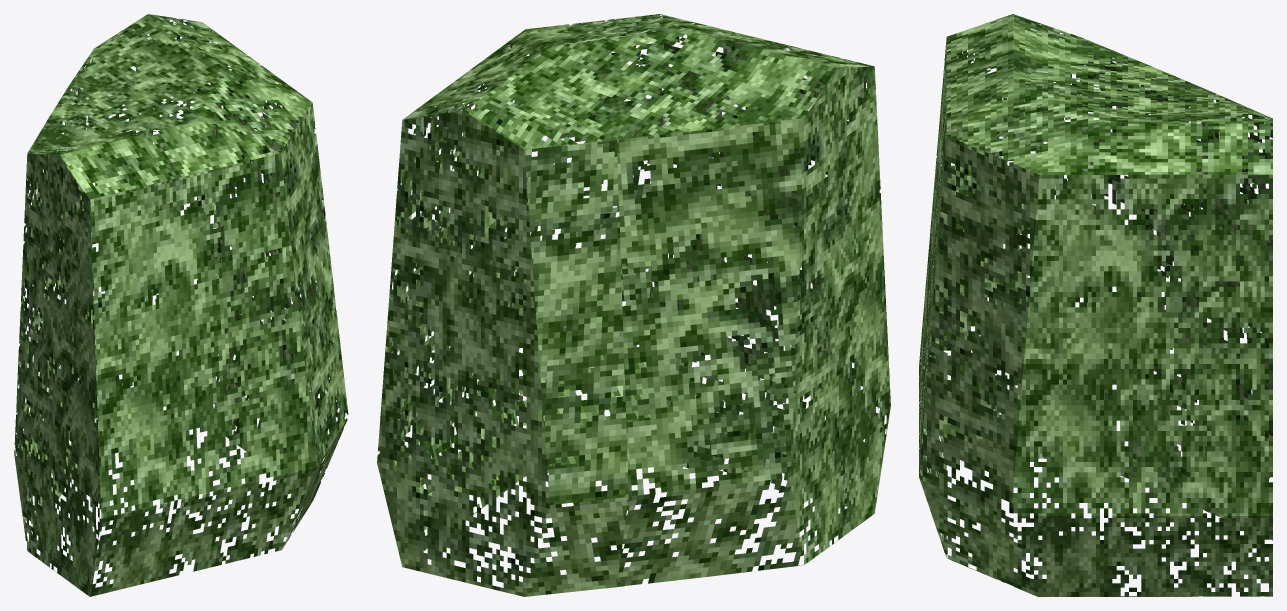
File: bush_long_round_corner_filled_summer.glb
3 views of the same model, side by side, from view 1: azimuth 30°, elevation 25°; view 2: azimuth 150°, elevation 25°; view 3: azimuth 270°, elevation 25° (orthographic). The views are drawn at different scales.
Visible parts, largest first — view 1: bush_long_round_corner_filled_summer; view 2: bush_long_round_corner_filled_summer; view 3: bush_long_round_corner_filled_summer.
Part boxes in pixels (bbox=[...]): bush_long_round_corner_filled_summer: bbox=[14, 14, 348, 596]; bush_long_round_corner_filled_summer: bbox=[377, 14, 890, 596]; bush_long_round_corner_filled_summer: bbox=[919, 14, 1272, 596].
Size of the model in its own units: 1.36 by 1.88 by 1.35.
1 material, 1 textured.
